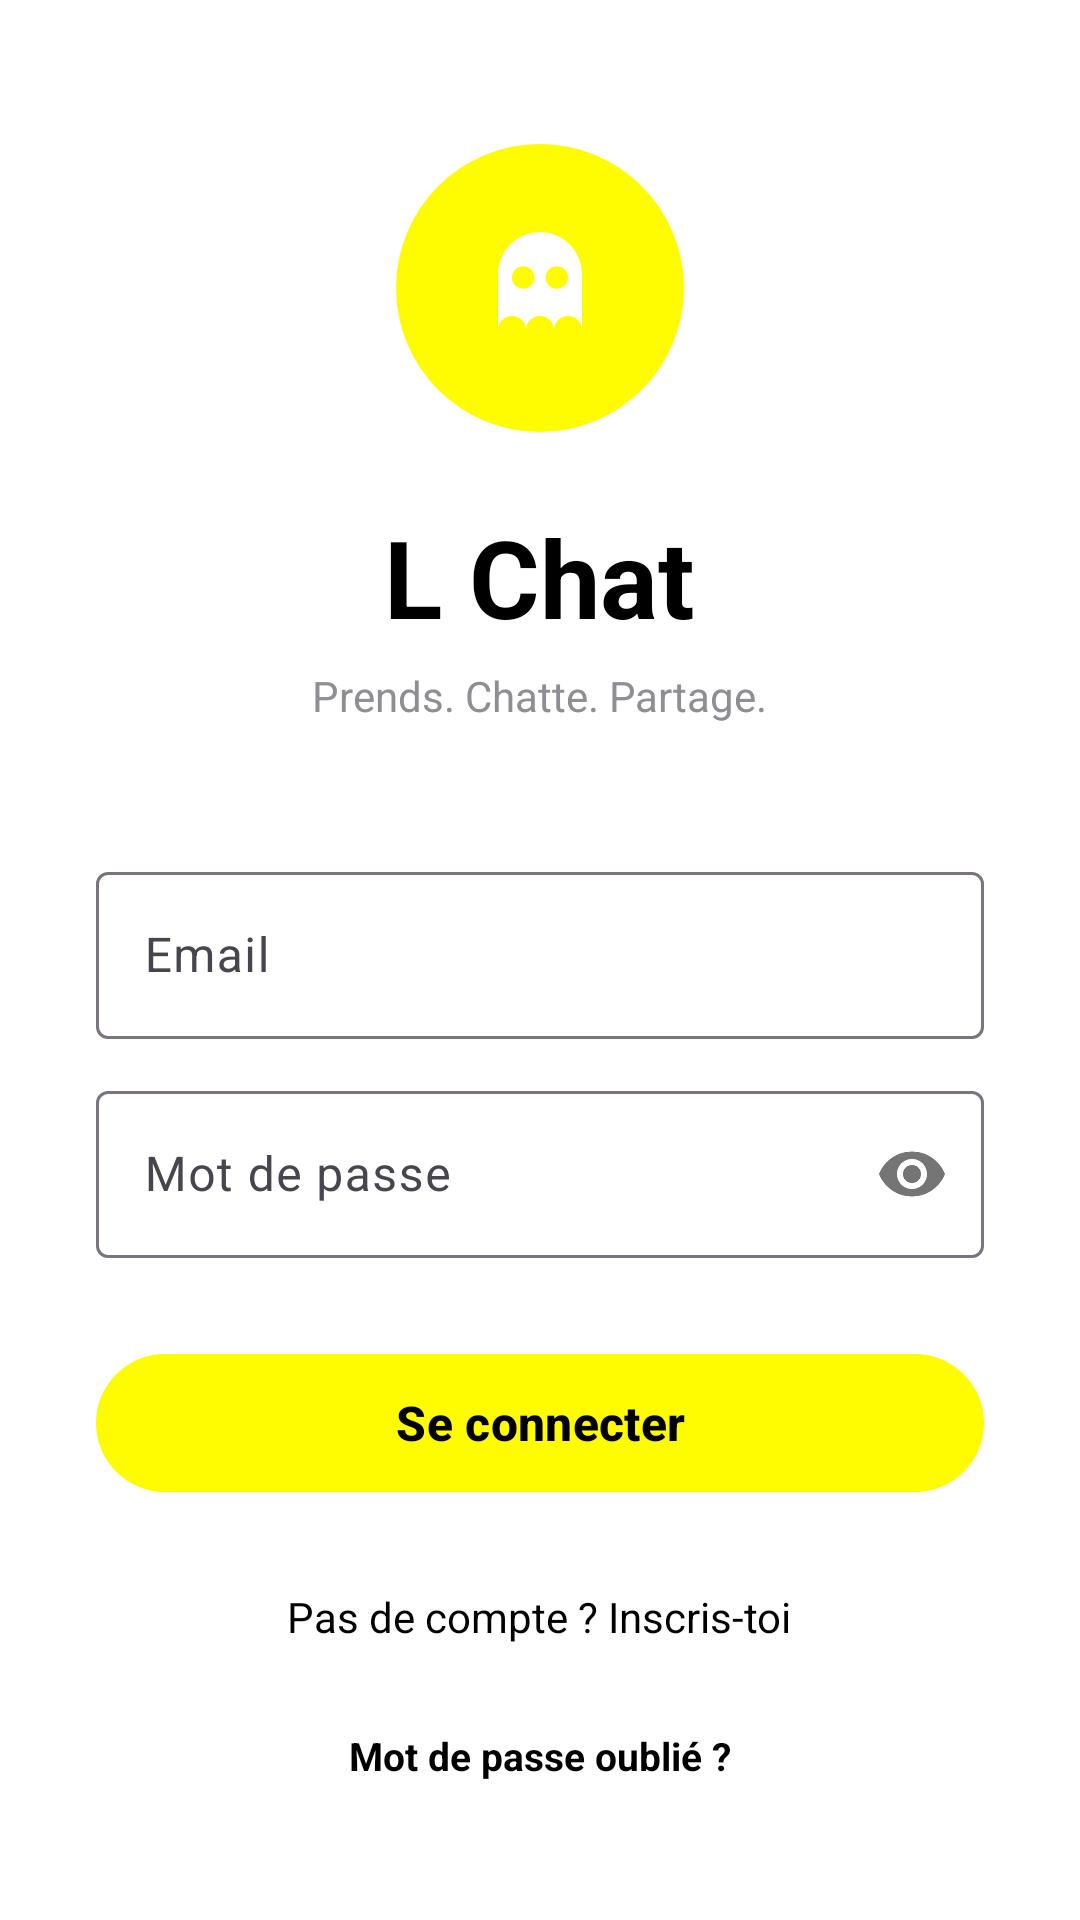

Icon click points for this 1080×1920 phone screenshot, format (x,y):
ghost: (540,280)
